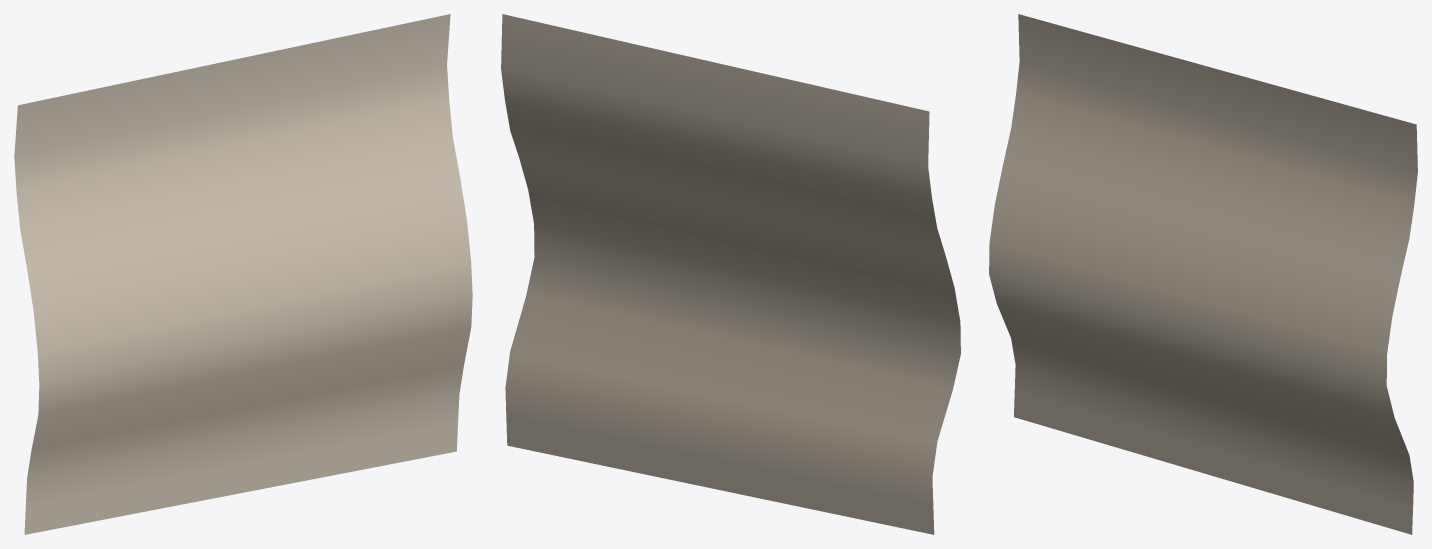
Rendered from cloth-base.glb.
3 renders of one model, left to right at view 1: azimuth 30°, elevation 25°; view 2: azimuth 150°, elevation 25°; view 3: azimuth 330°, elevation 25°, orthographic. The views are drawn at different scales.
Size of the model in its own units: 2.3 by 2.24 by 0.3042.
